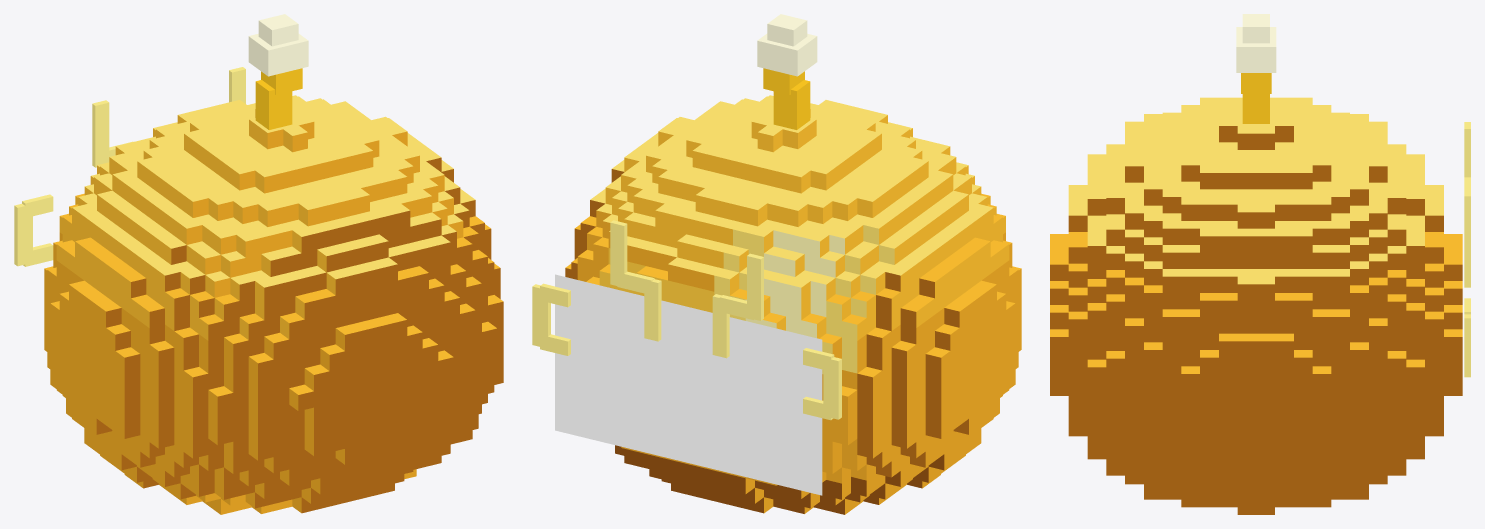
File: slime_electro.glb
3 renders of one model, left to right at view 1: azimuth 30°, elevation 25°; view 2: azimuth 150°, elevation 25°; view 3: azimuth 270°, elevation 25°, orthographic.
Parts seen in each view (by area): view 1: Shell, ElectroDetails; view 2: Shell, Face, ElectroDetails; view 3: Shell, ElectroDetails.
Boxes of the visible parts, x1,y1,x2,y2 form: Shell: (44, 95, 503, 514); ElectroDetails: (14, 14, 308, 266); Shell: (565, 95, 1021, 514); Face: (555, 274, 822, 495); ElectroDetails: (532, 14, 841, 420); Shell: (1050, 97, 1462, 514); ElectroDetails: (1236, 14, 1470, 377).
Size of the model in its own units: 1.2 by 1.31 by 1.16.
